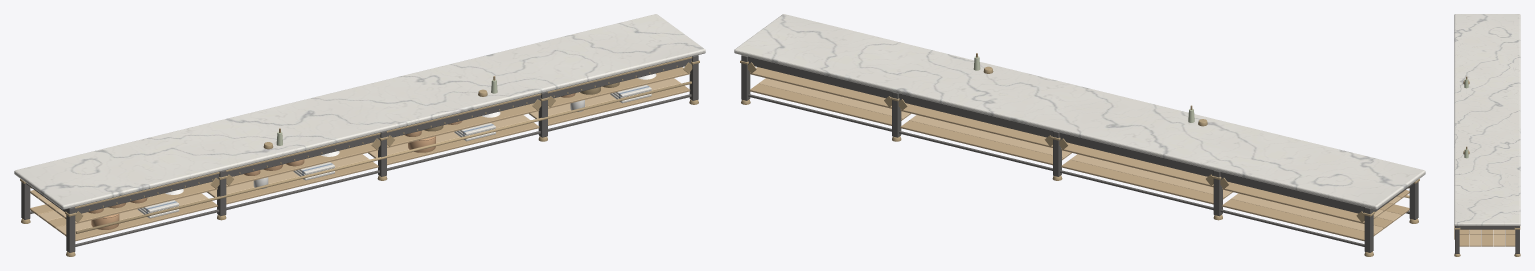
File: island.glb
3 renders of one model, left to right at view 1: azimuth 30°, elevation 25°; view 2: azimuth 150°, elevation 25°; view 3: azimuth 270°, elevation 25°, orthographic. The views are drawn at different scales.
Visible parts, largest first — view 1: island_carrara, island_oak_end, island_blackened_steel, island_bronze, island_brushed_oak, island_linen, island_copper, island_ceramic; view 2: island_carrara, island_oak_end, island_blackened_steel, island_brushed_oak, island_bronze; view 3: island_carrara, island_oak_end, island_blackened_steel, island_brushed_oak, island_bronze, island_cruet_glass.
Part boxes in pixels (x1,y1,x2,y2): island_carrara: (14,14,705,209); island_oak_end: (30,67,690,241); island_blackened_steel: (21,55,698,252); island_bronze: (20,56,699,256); island_brushed_oak: (38,78,680,235); island_linen: (137,85,651,218); island_copper: (88,93,575,229); island_ceramic: (165,73,656,194); island_carrara: (734,14,1425,209); island_oak_end: (749,67,1409,241); island_blackened_steel: (741,55,1418,252); island_brushed_oak: (759,78,1401,235); island_bronze: (740,60,1419,256); island_carrara: (1454,14,1520,225); island_oak_end: (1459,229,1515,246); island_blackened_steel: (1455,226,1519,253); island_brushed_oak: (1470,229,1504,246); island_bronze: (1454,80,1520,256); island_cruet_glass: (1464,78,1468,158).
Size of the model in its own units: 9 by 0.9153 by 1.21.
12 materials, 1 textured.
